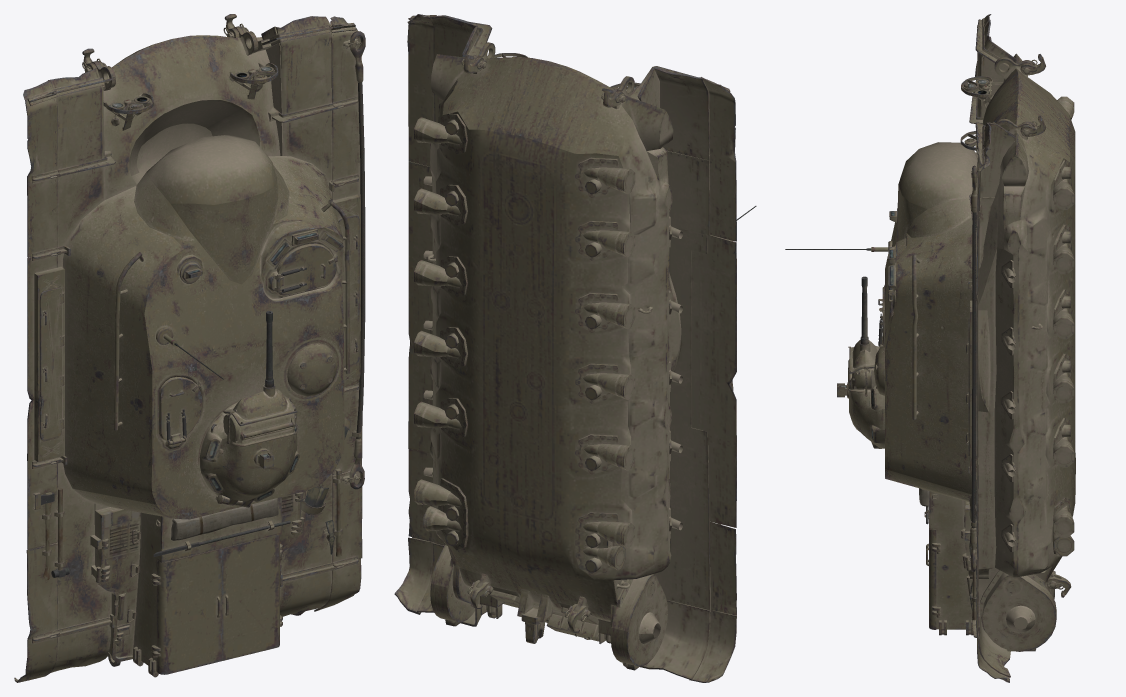
File: Hull.glb
3 views of the same model, side by side, from view 1: azimuth 30°, elevation 25°; view 2: azimuth 150°, elevation 25°; view 3: azimuth 270°, elevation 25° (orthographic). The views are drawn at different scales.
Visible parts, largest first — view 1: set_0_group_0; view 2: set_0_group_0; view 3: set_0_group_0.
Part boxes in pixels (x1,y1,x2,y2): set_0_group_0: (14,14,365,682); set_0_group_0: (394,14,756,682); set_0_group_0: (785,14,1075,682).
Bounding box in the file's own units: 3.75 × 6.47 × 3.55.
Materials: 1 (1 with a texture image).
